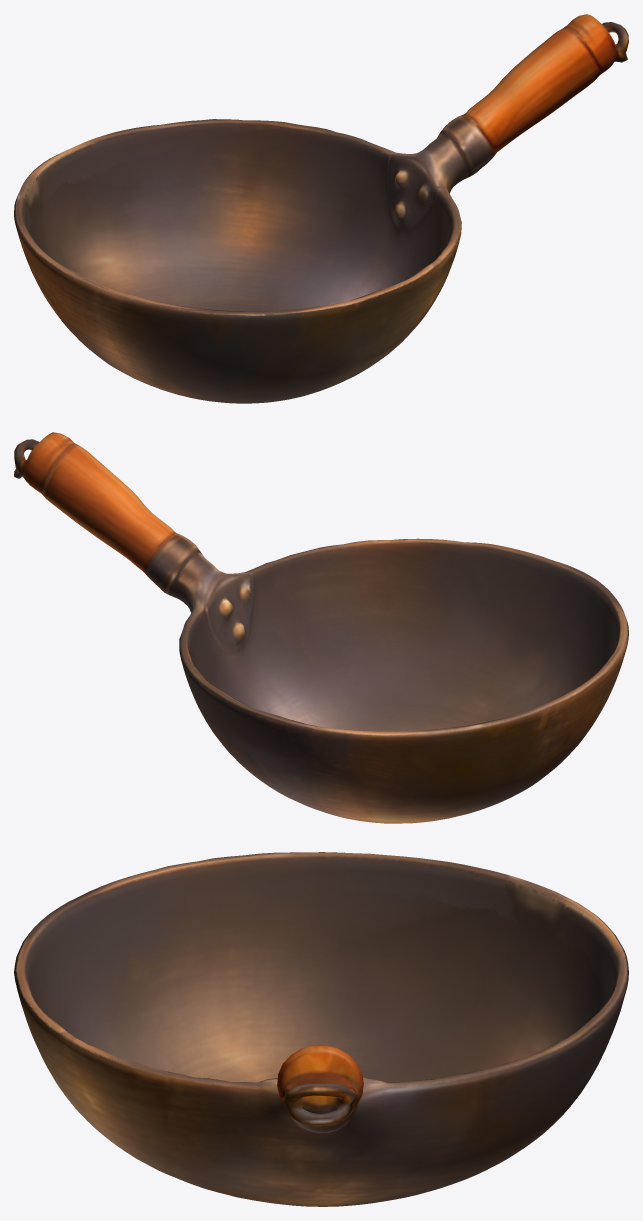
File: WokV02AI.fbx
3 renders of one model, top to bottom at view 1: azimuth 30°, elevation 25°; view 2: azimuth 150°, elevation 25°; view 3: azimuth 270°, elevation 25°, orthographic. The views are drawn at different scales.
Visible parts, largest first — view 1: Retopo_Mesh.001; view 2: Retopo_Mesh.001; view 3: Retopo_Mesh.001.
Part boxes in pixels (left/top/right/bottom): Retopo_Mesh.001: left=14, top=14, right=628, bottom=403; Retopo_Mesh.001: left=14, top=432, right=628, bottom=823; Retopo_Mesh.001: left=14, top=852, right=628, bottom=1206.
Size of the model in its own units: 1 by 0.4417 by 0.7121.
